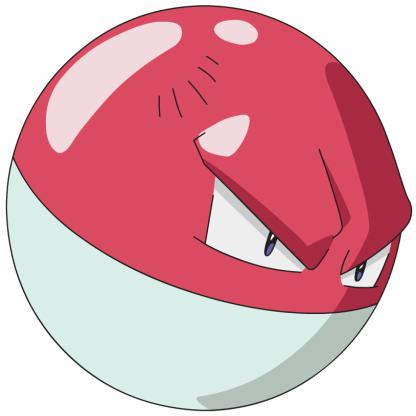Voltorb: (24, 7, 407, 391)
